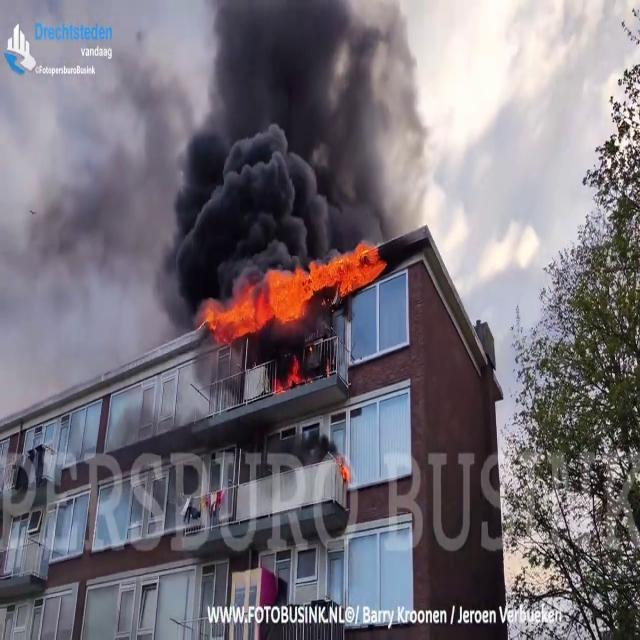Fire: (205, 267, 318, 343), (312, 238, 382, 296)
Smoke: (0, 0, 198, 408), (174, 0, 430, 262)
